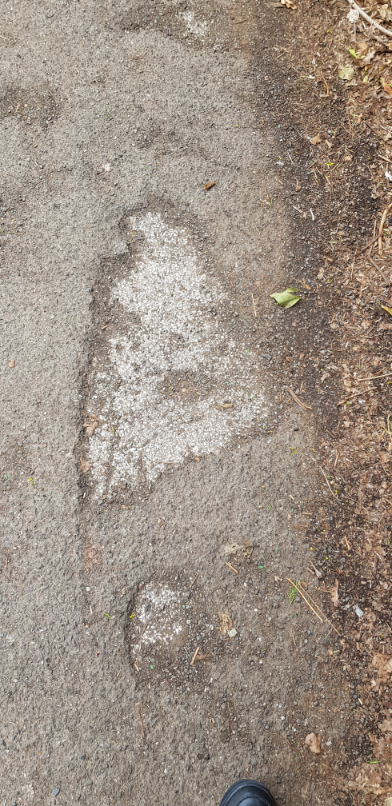pothole: (67, 195, 287, 512), (121, 567, 225, 687)
